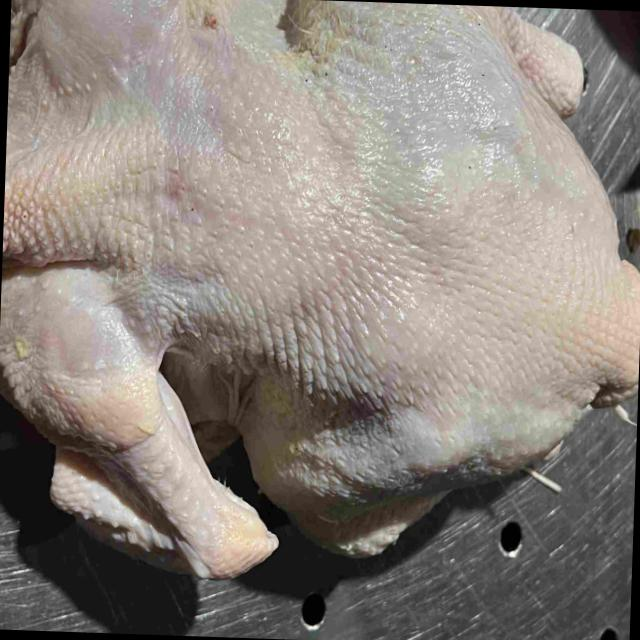back: (71, 83, 640, 412)
leg: (238, 378, 555, 558), (288, 0, 588, 108)
wing: (0, 257, 282, 585)
